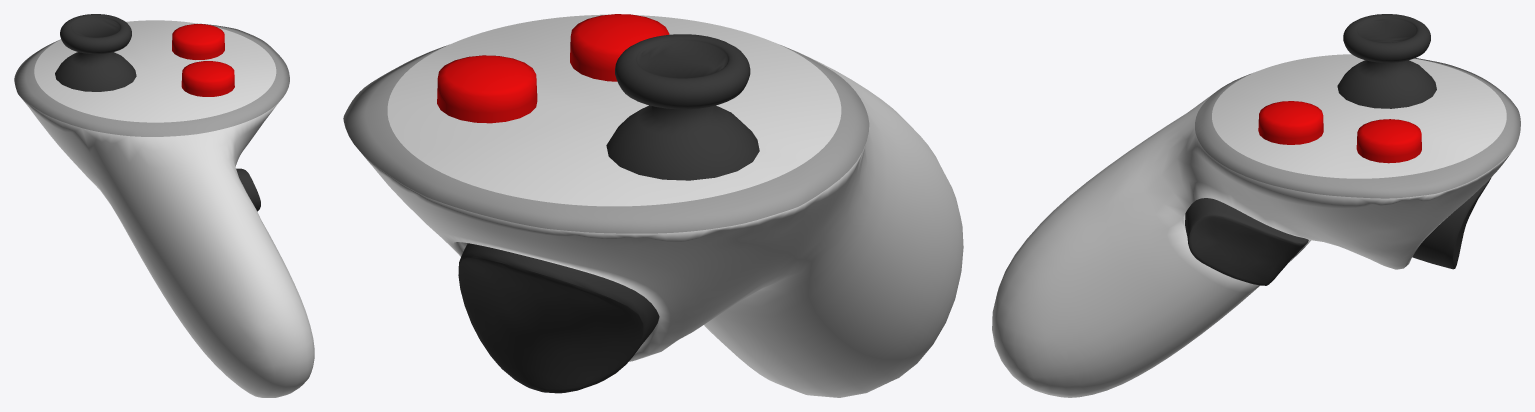
File: L_XR_controller.glb
3 views of the same model, side by side, from view 1: azimuth 30°, elevation 25°; view 2: azimuth 150°, elevation 25°; view 3: azimuth 270°, elevation 25° (orthographic). The views are drawn at different scales.
Visible parts, largest first — view 1: L_XR_mando, L_XR_joystick, L_XR_AX_button, L_XR_BY_button, L_XR_grab; view 2: L_XR_mando, L_XR_trigger, L_XR_joystick, L_XR_BY_button, L_XR_AX_button; view 3: L_XR_mando, L_XR_joystick, L_XR_grab, L_XR_AX_button, L_XR_BY_button, L_XR_trigger.
Part boxes in pixels (x1,y1,x2,y2): L_XR_mando: (14, 20, 314, 397); L_XR_joystick: (55, 14, 136, 91); L_XR_AX_button: (181, 61, 234, 96); L_XR_BY_button: (172, 24, 224, 59); L_XR_grab: (236, 168, 260, 211); L_XR_mando: (343, 14, 963, 397); L_XR_trigger: (458, 243, 659, 393); L_XR_joystick: (606, 34, 759, 180); L_XR_BY_button: (437, 55, 537, 123); L_XR_AX_button: (570, 14, 669, 81); L_XR_mando: (992, 54, 1520, 397); L_XR_joystick: (1337, 14, 1436, 108); L_XR_grab: (1185, 198, 1308, 285); L_XR_AX_button: (1258, 101, 1323, 144); L_XR_BY_button: (1356, 119, 1421, 163); L_XR_trigger: (1412, 177, 1491, 269).
Size of the model in its own units: 0.0734 by 0.0815 by 0.1147.
